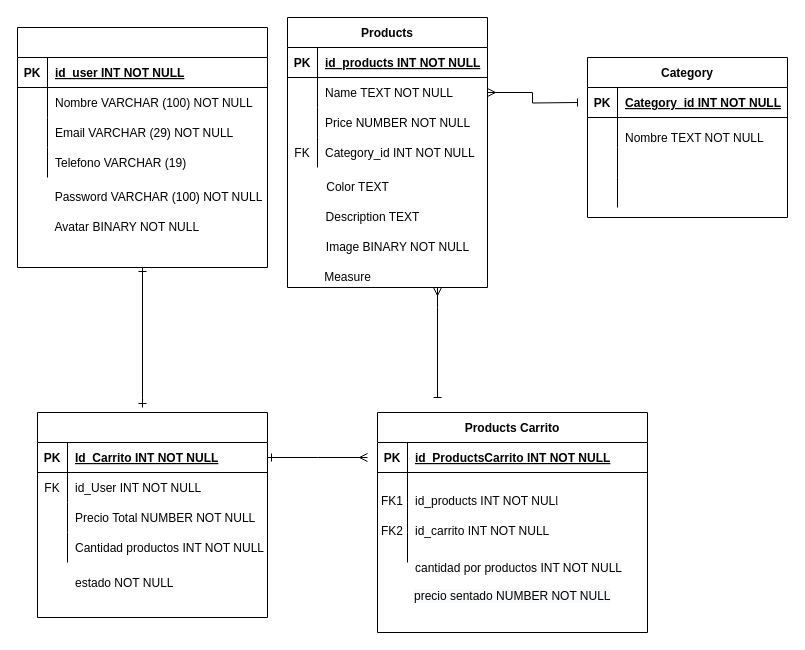
Some shapes in this 805 by 650 pixel diagram are drawn without their labels. Each missing label, with the box of its shape:
Carrito-Compras: (36, 412, 268, 618)
Users: (16, 26, 268, 268)
